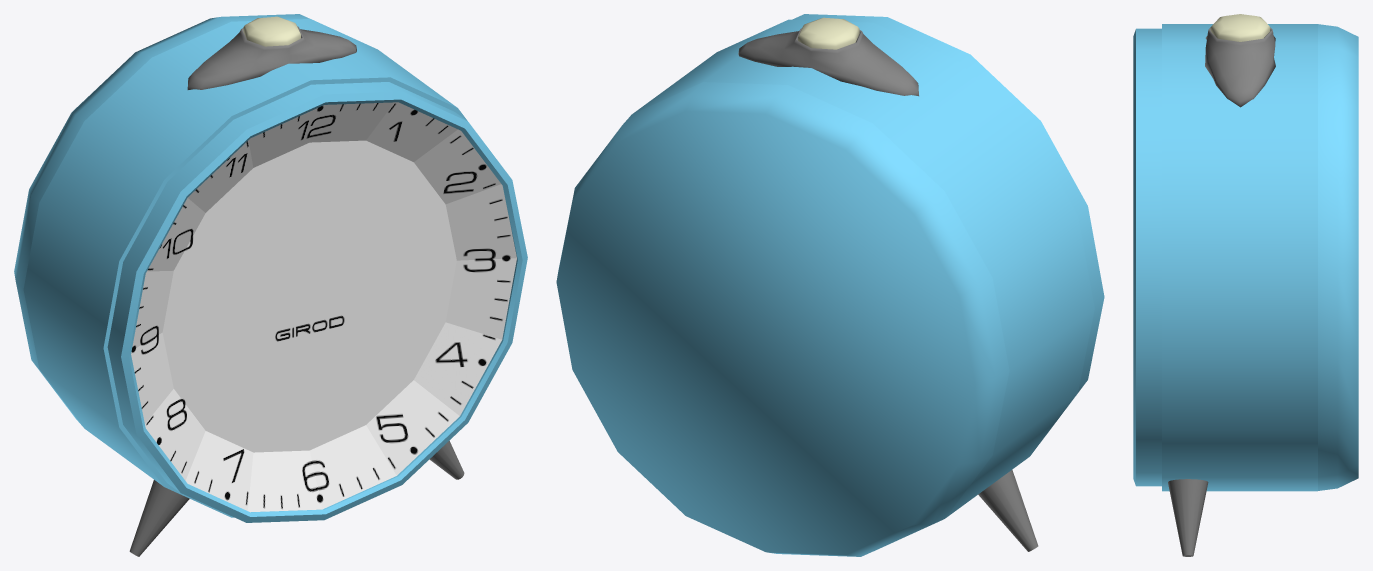
File: 3DClock.obj
3 views of the same model, side by side, from view 1: azimuth 30°, elevation 25°; view 2: azimuth 150°, elevation 25°; view 3: azimuth 270°, elevation 25° (orthographic). The views are drawn at different scales.
Visible parts, largest first — view 1: Clock_face, Clock_body, Clock_rear_cover, Alarm_button2, Cone1, Alarm_button, Cone2; view 2: Clock_rear_cover, Clock_body, Alarm_button2, Cone1, Alarm_button; view 3: Clock_body, Clock_rear_cover, Alarm_button2, Cone2, Alarm_button.
Part boxes in pixels (x1,y1,x2,y2): Clock_face: [131, 102, 516, 512]; Clock_body: [23, 19, 527, 522]; Clock_rear_cover: [14, 14, 309, 425]; Alarm_button2: [187, 26, 356, 89]; Cone1: [129, 480, 189, 556]; Alarm_button: [243, 16, 300, 46]; Cone2: [429, 441, 464, 479]; Clock_rear_cover: [556, 82, 1009, 556]; Clock_body: [633, 14, 1104, 548]; Alarm_button2: [738, 28, 918, 96]; Cone1: [978, 470, 1038, 551]; Alarm_button: [798, 17, 859, 49]; Clock_body: [1133, 24, 1317, 491]; Clock_rear_cover: [1318, 24, 1358, 490]; Alarm_button2: [1205, 27, 1275, 107]; Cone2: [1168, 479, 1208, 556]; Alarm_button: [1210, 14, 1270, 41].
Size of the model in its own units: 0.09 by 0.0981 by 0.0433.
4 materials, 4 textured.
